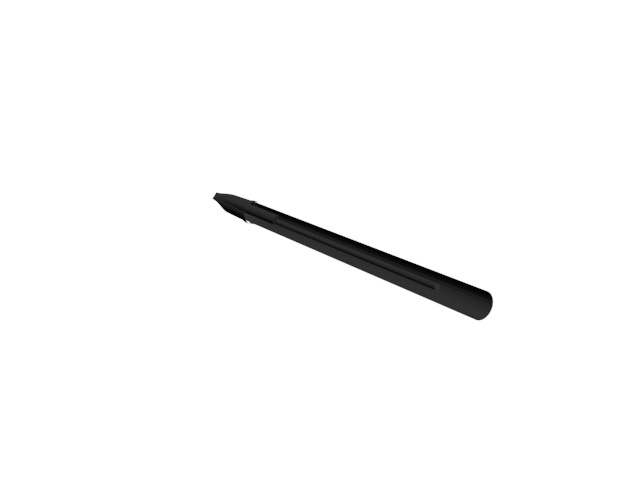pen: (209, 193, 496, 328)
